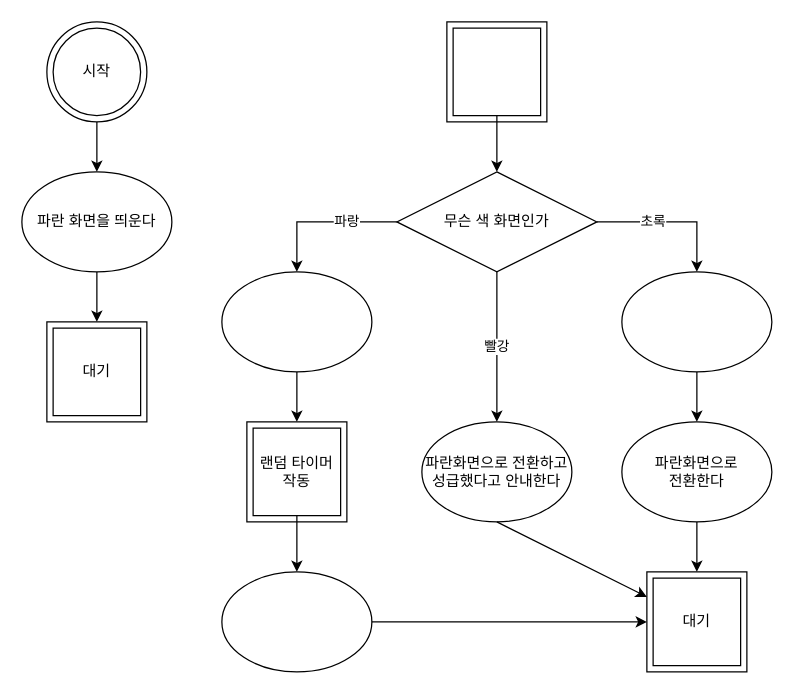
This 794x694 diagram has some shape labels left out. Each missing label, with the centre of its shape:
"빨간 화면으로 전환한다" belongs at [296,321].
"초록화면으로 띄우고 시간을 재기 시작한다" belongs at [296,621].
"클릭까지 얼마나 걸렸는지 측정하고 표시한다" belongs at [696,321].
"화면클릭" belongs at [496,71].
